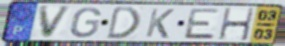D: (104, 5, 143, 41)
E: (182, 8, 222, 41)
G: (68, 6, 103, 39)
H: (217, 7, 256, 42)
K: (143, 7, 176, 40)
V: (37, 5, 74, 40)
